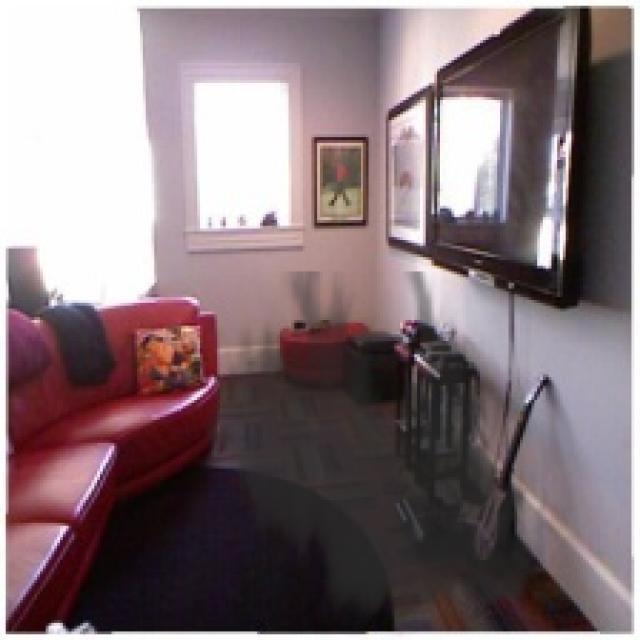Smoke: (195, 272, 554, 637)
